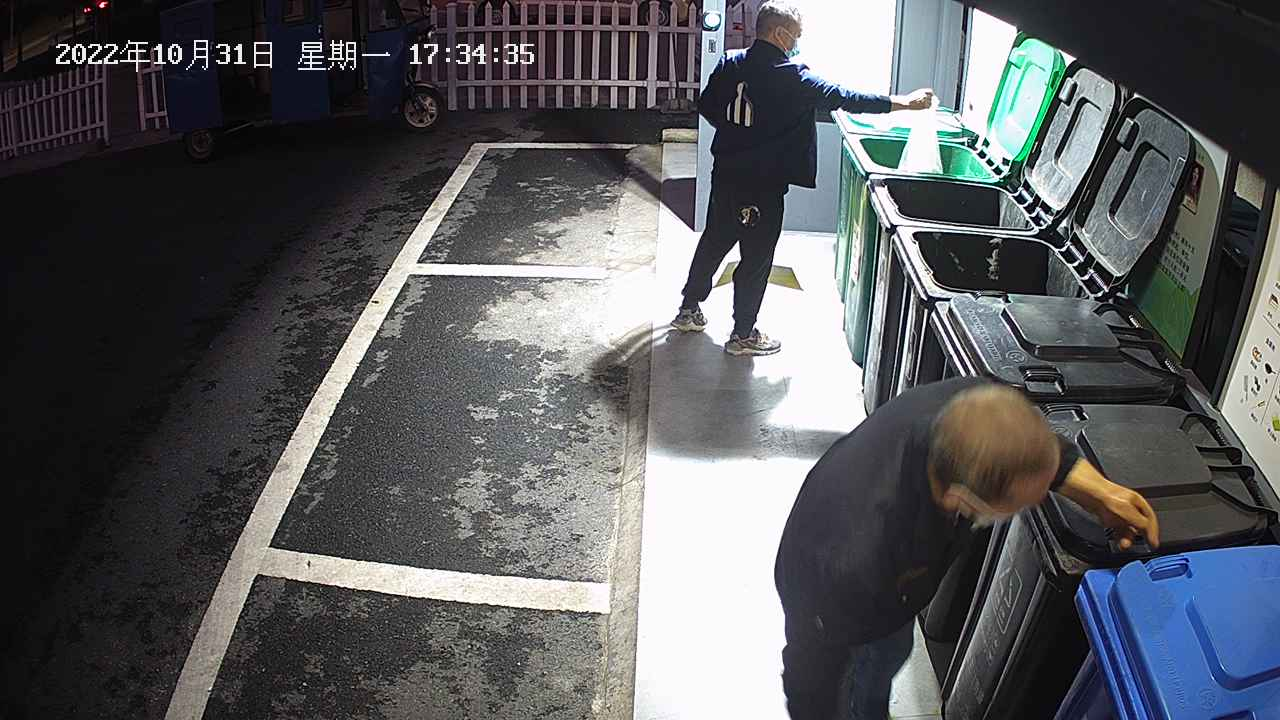person: (771, 373, 1162, 720), (669, 1, 932, 359)
